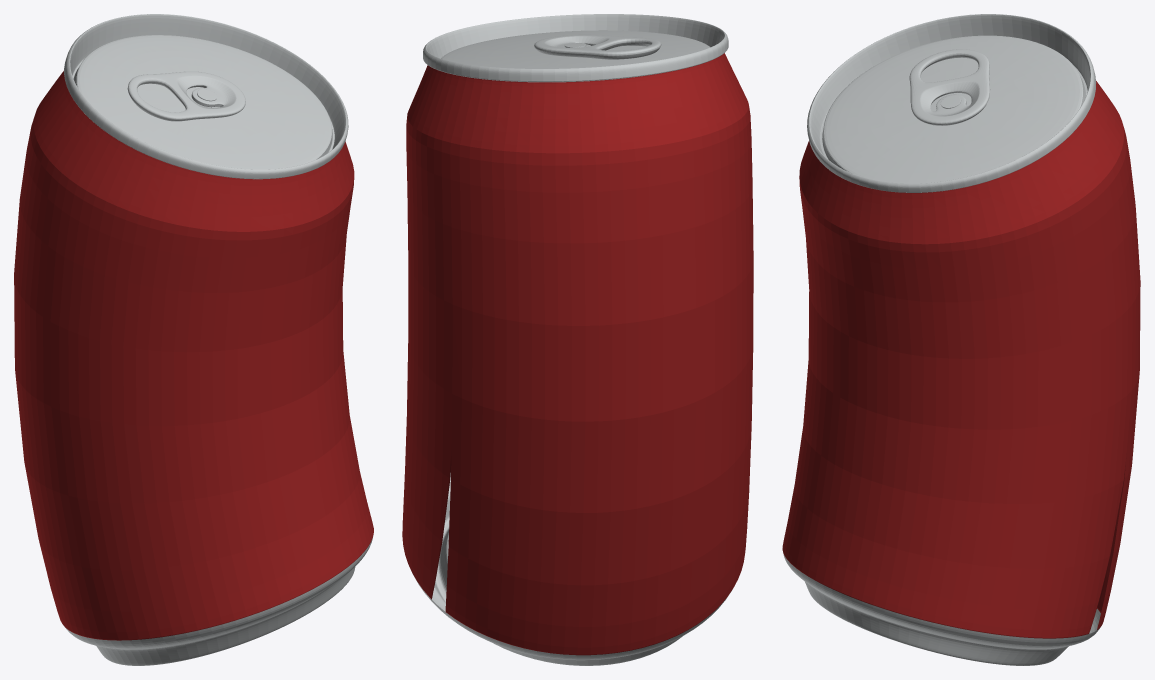
File: bend_low_1.obj
The picture shows the model from 3 angles, left to right: view 1: azimuth 30°, elevation 25°; view 2: azimuth 150°, elevation 25°; view 3: azimuth 270°, elevation 25°; orthographic projection. The views are drawn at different scales.
Parts seen in each view (by area): view 1: model; view 2: model; view 3: model.
Boxes of the visible parts, x1,y1,x2,y2 form: model: [14, 14, 373, 665]; model: [402, 14, 753, 665]; model: [782, 14, 1140, 665].
Size of the model in its own units: 0.0731 by 0.1346 by 0.074.
Materials: 1 (1 with a texture image).
